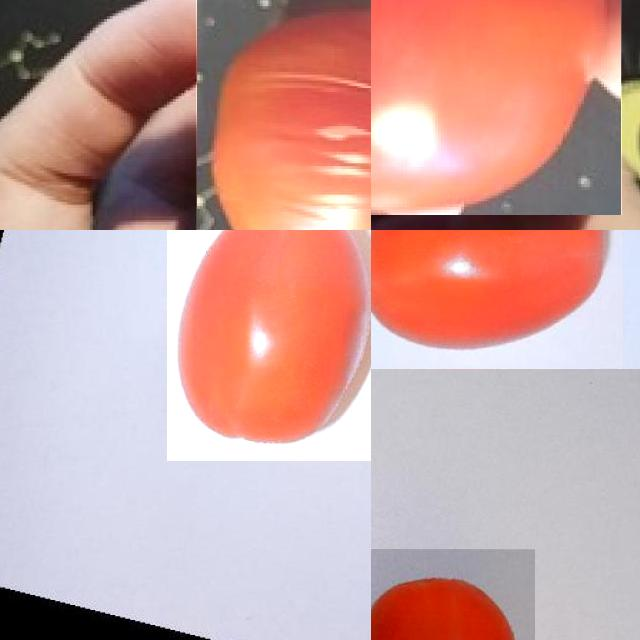Fresh Tomato: (371, 0, 622, 215), (166, 230, 371, 461), (371, 230, 623, 369), (371, 549, 534, 640)
Rotten Tomato: (196, 0, 371, 230)
